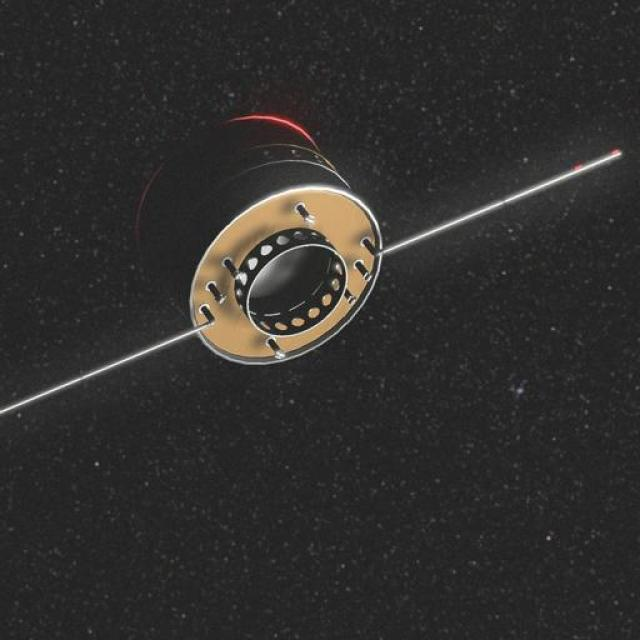double_start: (95, 81, 382, 408)
